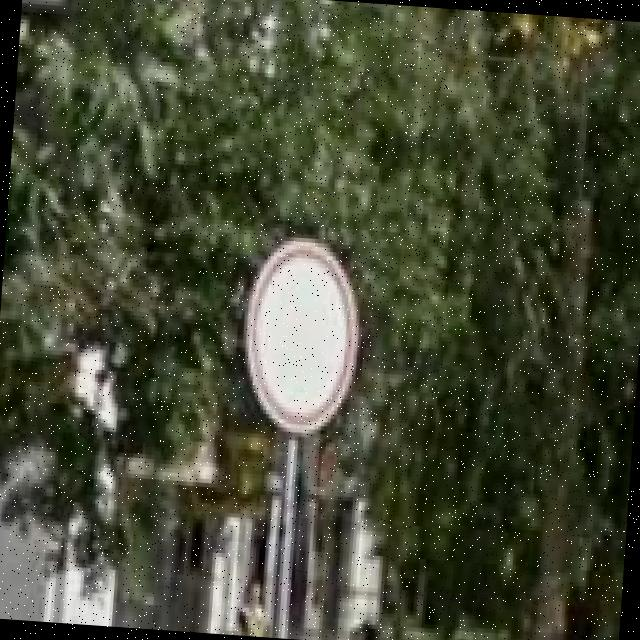Zakaz ruchu w obu kierunkach: (240, 234, 368, 436)
